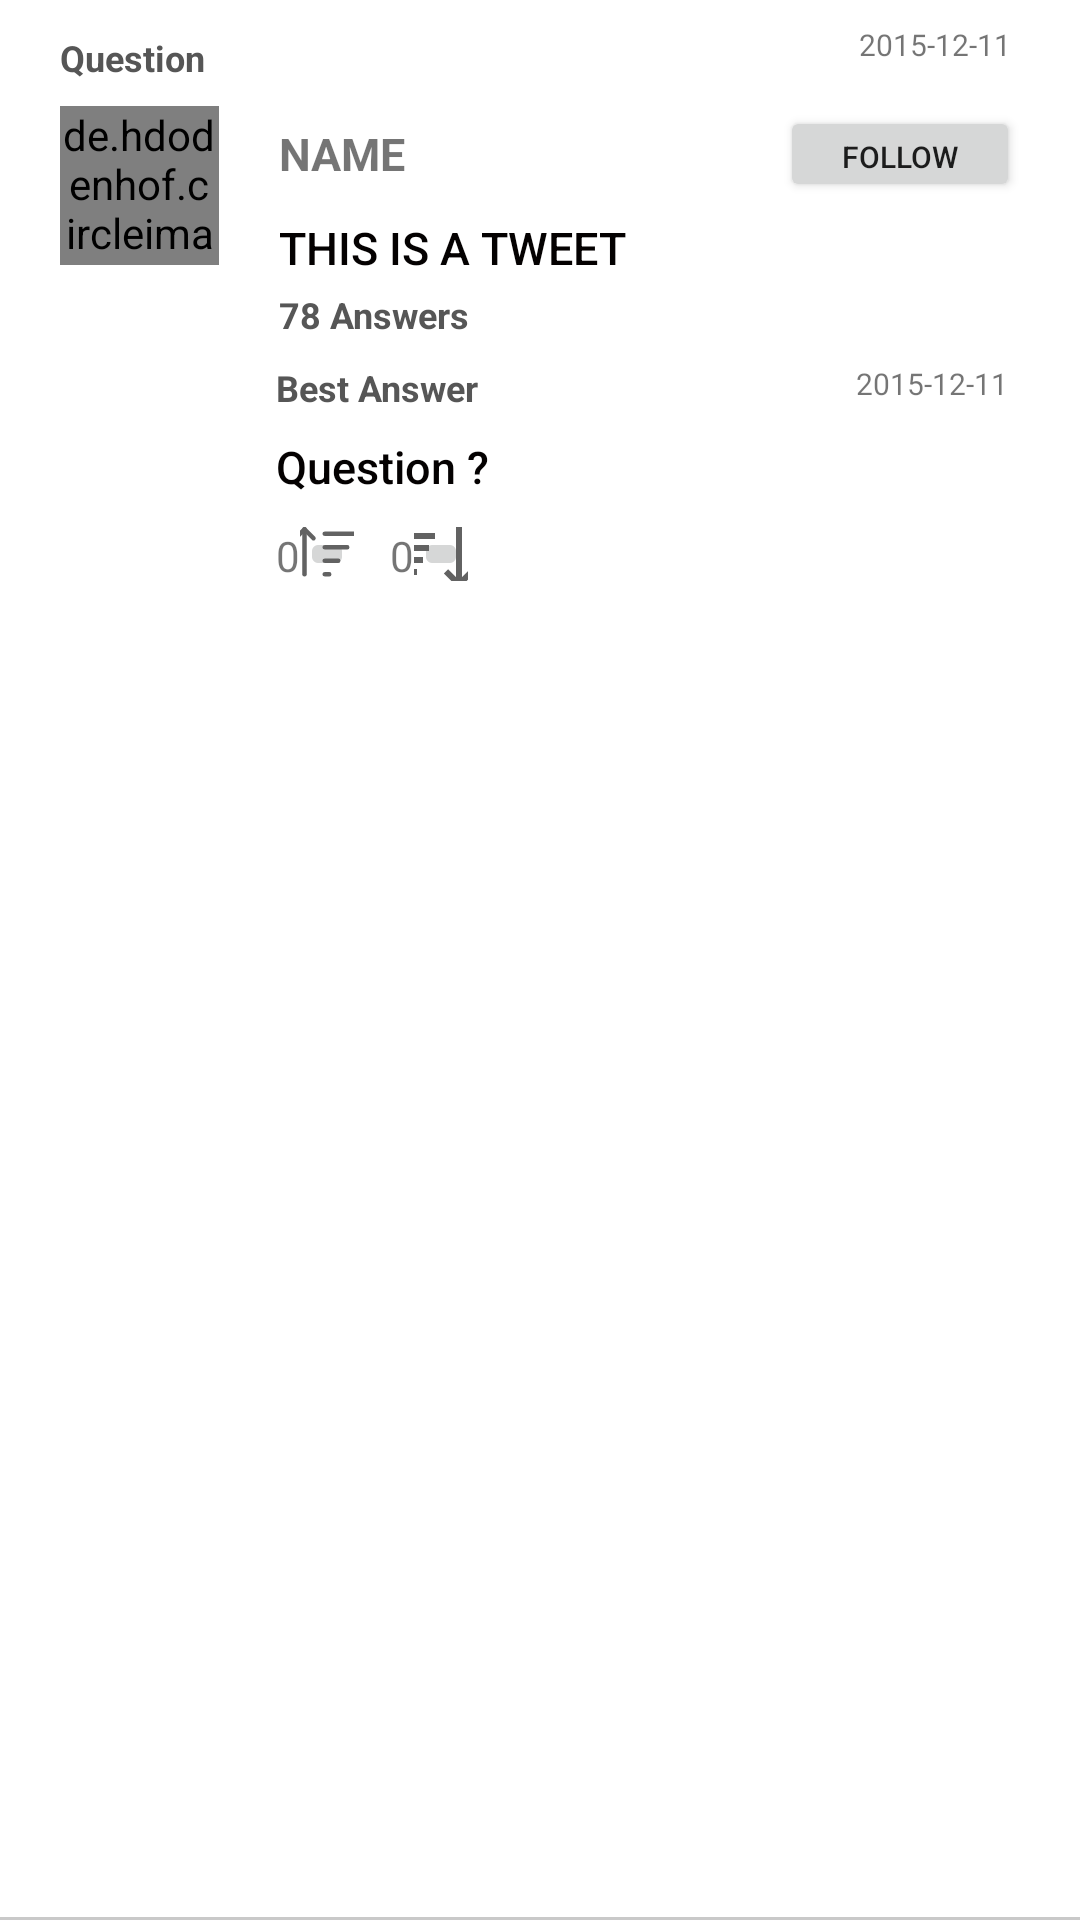

Where to tap for icons on this 1080px x 1920px app screen, as (x,y):
downvote: (441,554)
upvote: (327,552)
